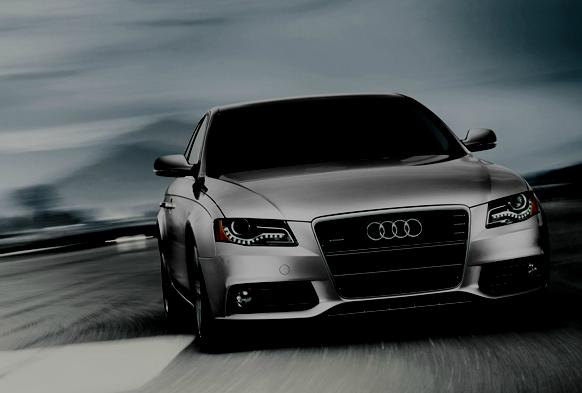Audi: (357, 208, 436, 249)
